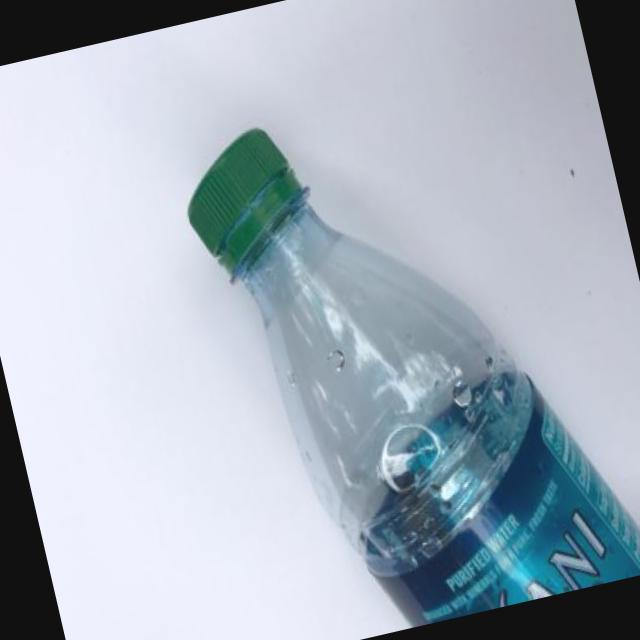Recycle: (170, 57, 640, 640)
